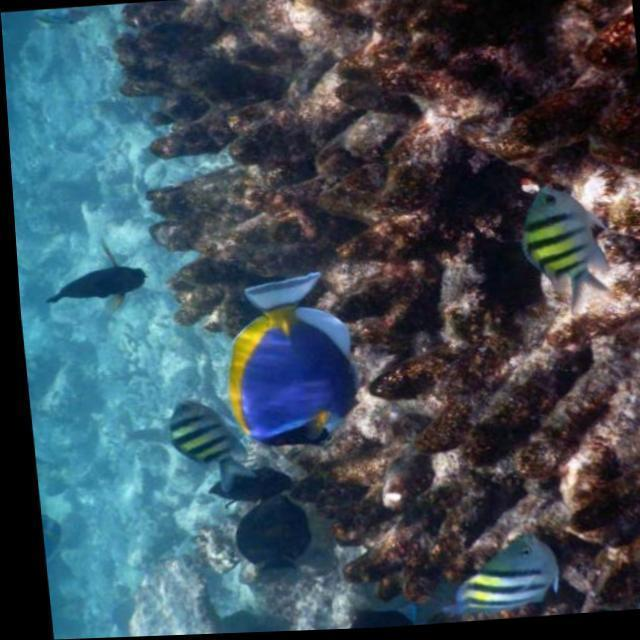Dead Coral: (124, 0, 640, 300), (369, 306, 635, 629)
